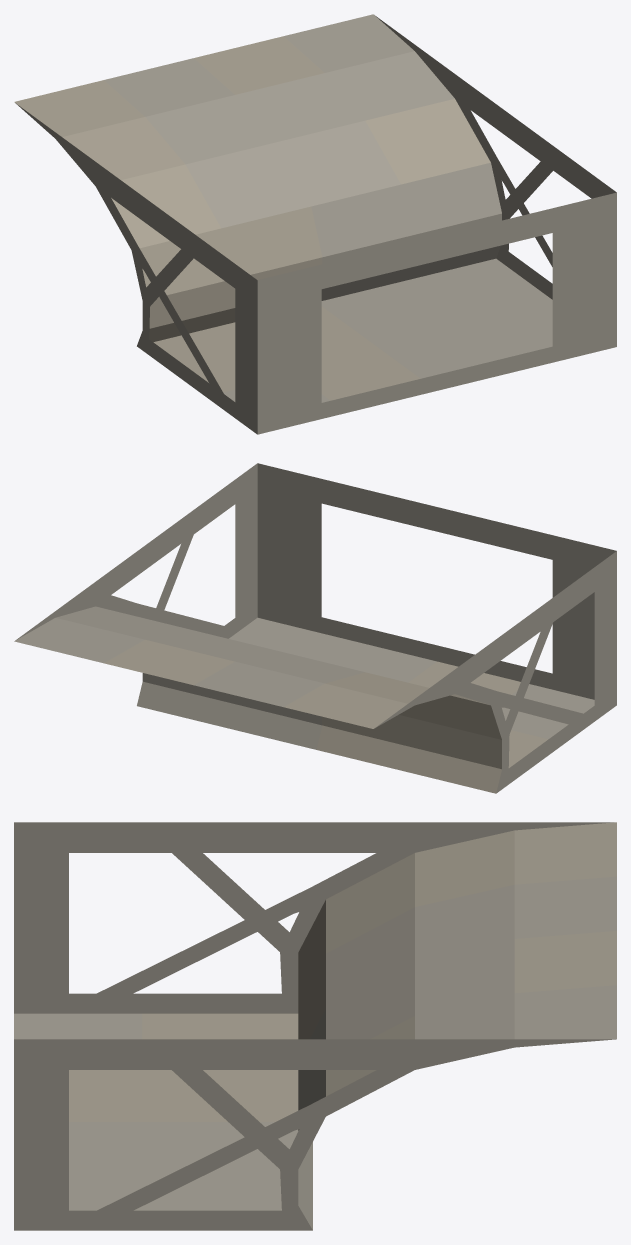
Rendered from pipe.obj.
3 views of the same model, one above another, from view 1: azimuth 30°, elevation 25°; view 2: azimuth 150°, elevation 25°; view 3: azimuth 270°, elevation 25° (orthographic). The views are drawn at different scales.
Size of the model in its own units: 1960 by 805 by 2300.
